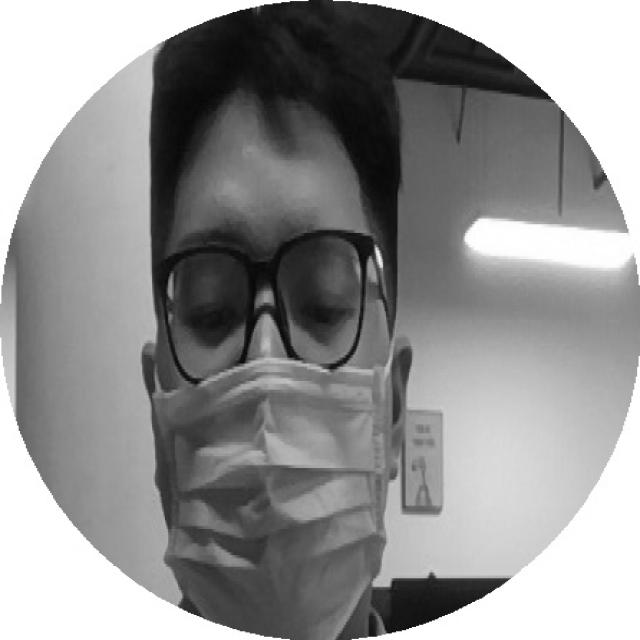fake: (143, 358, 402, 640)
real: (158, 225, 387, 359)
